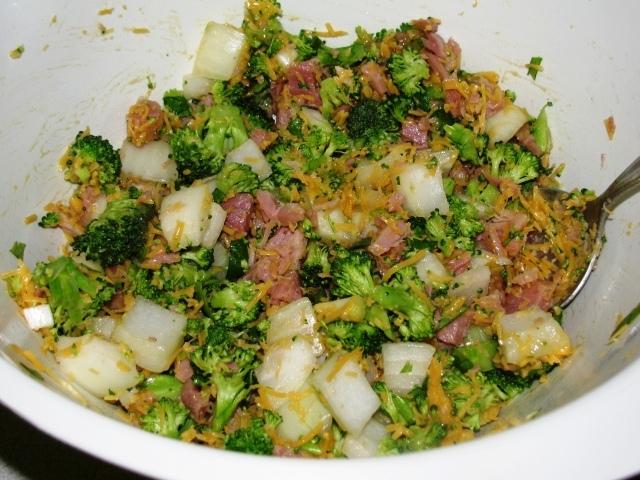broccoli: (330, 251, 436, 342), (32, 255, 122, 342), (70, 186, 158, 266), (168, 104, 248, 188), (190, 336, 260, 432), (479, 141, 546, 205), (440, 366, 500, 433), (376, 404, 448, 458), (68, 130, 122, 190), (210, 279, 266, 331), (452, 324, 499, 374), (386, 45, 429, 98), (345, 100, 398, 143), (300, 131, 351, 174), (211, 162, 260, 203), (140, 398, 190, 437), (223, 418, 274, 456), (312, 39, 374, 69), (372, 382, 415, 425), (340, 326, 392, 359), (443, 122, 480, 166), (136, 374, 184, 402), (319, 77, 350, 120), (290, 126, 330, 158), (529, 101, 552, 154), (226, 238, 250, 282), (163, 88, 194, 121), (382, 94, 417, 123), (158, 264, 194, 292), (242, 19, 274, 48), (243, 52, 276, 80), (181, 246, 215, 272), (452, 214, 486, 238), (302, 239, 324, 275), (298, 29, 326, 56), (288, 32, 314, 61), (464, 170, 486, 201), (270, 161, 296, 187), (194, 280, 212, 317), (388, 314, 411, 342), (136, 269, 157, 299), (326, 320, 354, 340), (318, 241, 333, 278), (223, 328, 250, 347), (453, 235, 476, 256), (472, 132, 490, 157), (262, 16, 284, 34), (252, 78, 270, 98), (300, 442, 322, 453)
onion: (311, 349, 381, 440), (111, 294, 188, 374), (57, 332, 140, 398), (500, 305, 571, 366), (397, 150, 454, 219), (256, 334, 318, 394), (160, 184, 212, 252), (275, 381, 332, 442), (192, 21, 246, 81), (382, 342, 436, 398), (120, 139, 178, 183), (268, 297, 316, 345), (224, 138, 273, 182), (485, 104, 529, 148), (342, 418, 386, 460), (448, 266, 490, 308), (408, 250, 452, 288), (200, 202, 228, 250), (69, 250, 105, 276), (302, 107, 334, 134), (24, 304, 54, 330), (86, 316, 117, 340), (183, 74, 211, 98), (316, 210, 334, 244), (90, 194, 108, 221), (356, 164, 374, 190), (275, 48, 298, 68), (366, 357, 380, 388), (212, 244, 230, 267), (334, 222, 360, 236), (470, 255, 491, 269)
